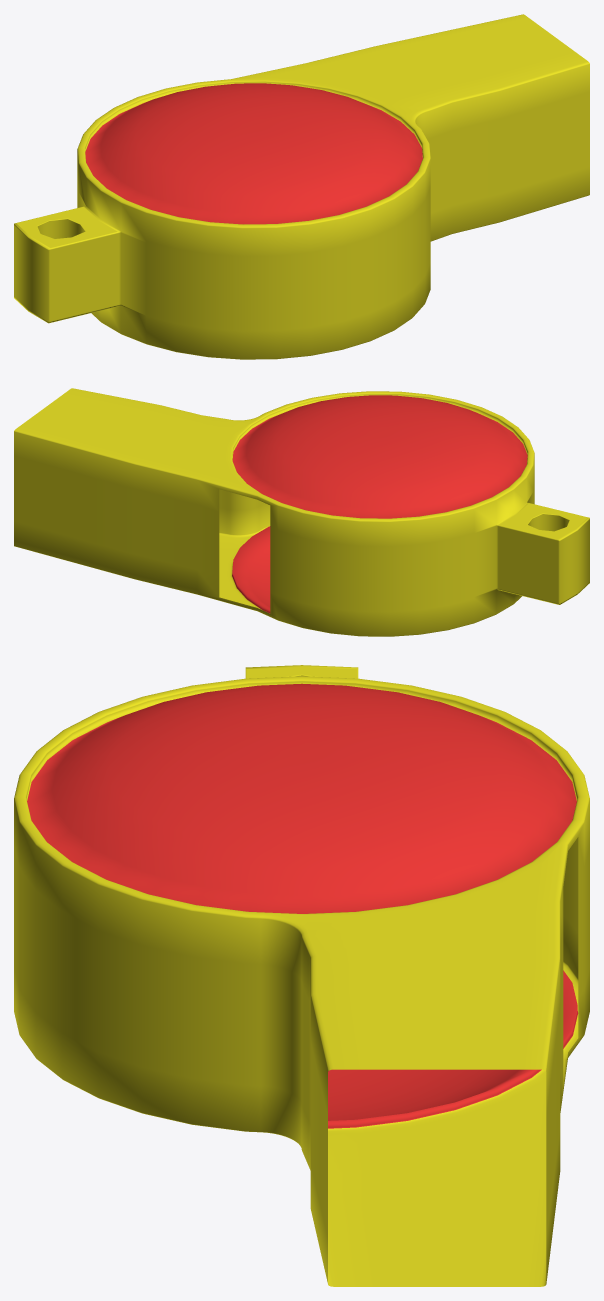
The model's file is whistle.glb.
3 views of the same model, one above another, from view 1: azimuth 30°, elevation 25°; view 2: azimuth 150°, elevation 25°; view 3: azimuth 270°, elevation 25° (orthographic). The views are drawn at different scales.
Parts seen in each view (by area): view 1: Cylinder; view 2: Cylinder; view 3: Cylinder.
Part boxes in pixels (x1=…): Cylinder: x1=14, y1=14, x2=589, y2=359; Cylinder: x1=14, y1=388, x2=589, y2=636; Cylinder: x1=14, y1=665, x2=589, y2=1286.
Bounding box in the file's own units: 3.72 × 1.17 × 2.
